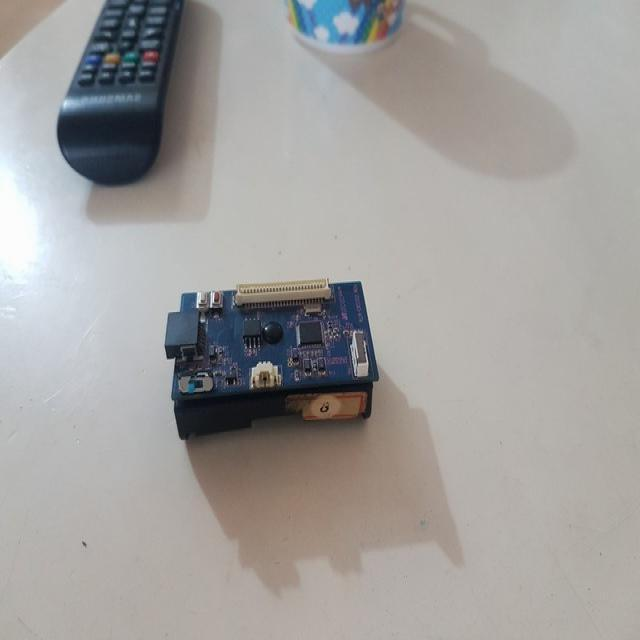TelosB: (165, 280, 379, 439)
